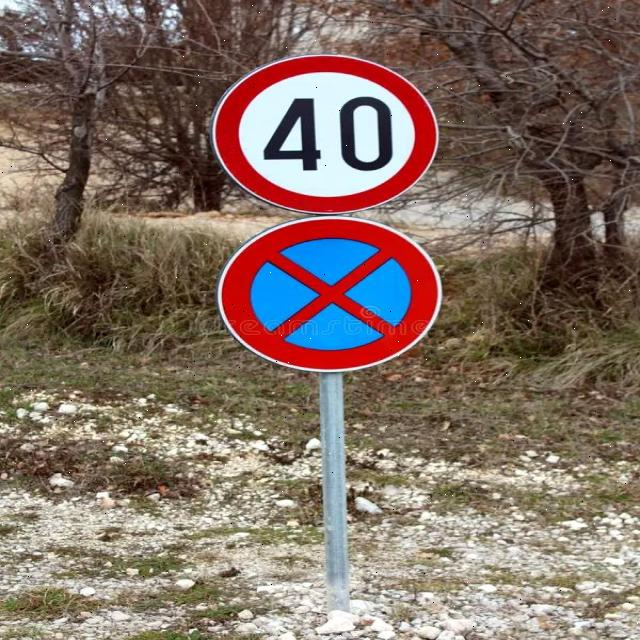speed limit 40: (213, 56, 438, 217)
